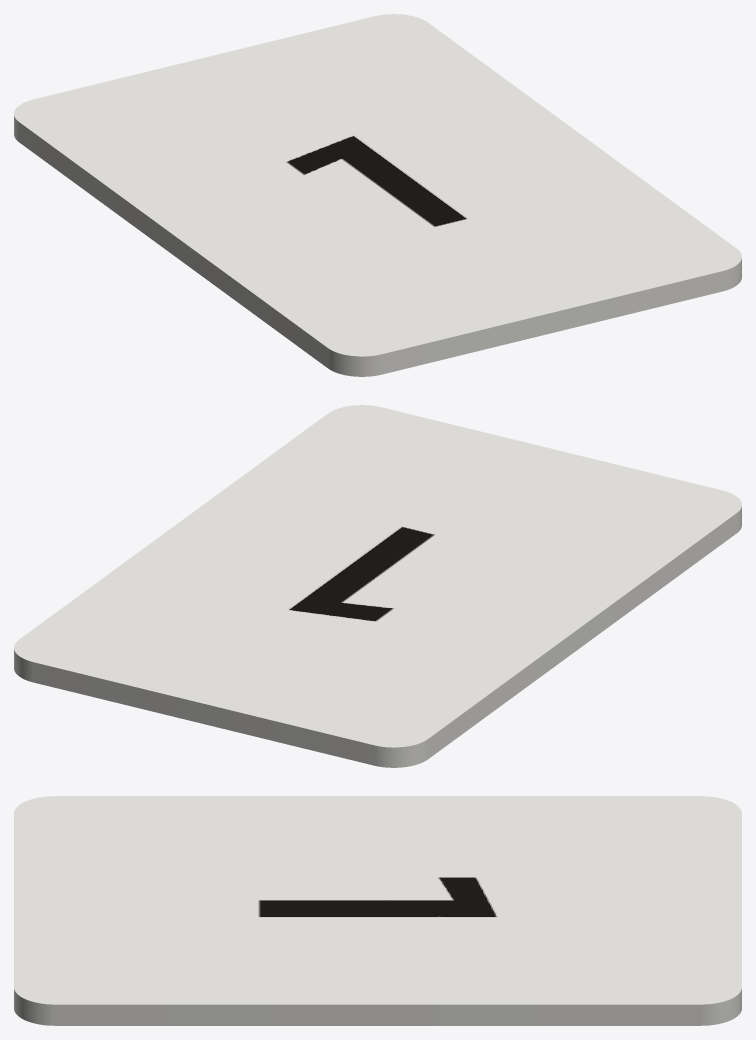
Rendered from white_1.glb.
3 views of the same model, one above another, from view 1: azimuth 30°, elevation 25°; view 2: azimuth 150°, elevation 25°; view 3: azimuth 270°, elevation 25° (orthographic). The views are drawn at different scales.
Visible parts, largest first — view 1: white_1; view 2: white_1; view 3: white_1.
Boxes of the visible parts, x1,y1,x2,y2 form: white_1: (14,14,741,376); white_1: (14,405,741,767); white_1: (14,796,741,1025).
Size of the model in its own units: 0.042 by 0.002 by 0.062.
2 materials, 1 textured.
